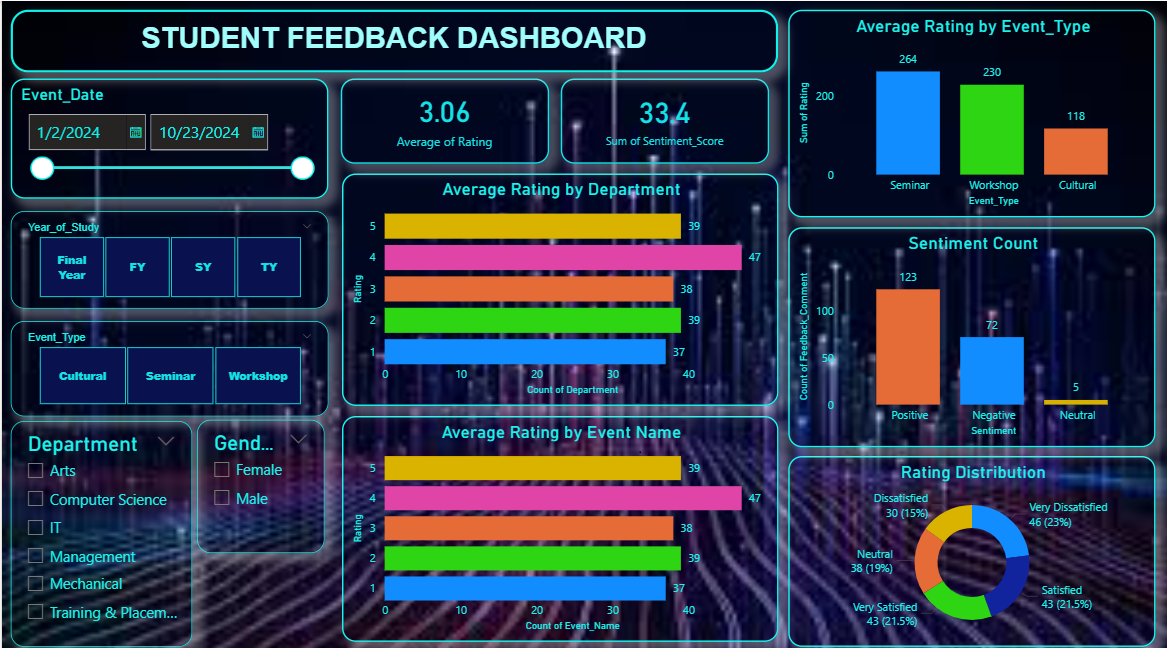

The page's visual inventory and layout, read from the dashboard file:
{"tool":"powerbi","page":{"name":"Page 1","canvas":[1280,720],"ordinal":0},"visuals":[{"type":"clusteredBarChart","title":"Average Rating by Event Name","fields":{"Y":["CountNonNull(college_event_feedback_cleaned.Event_Name)"],"Category":["college_event_feedback_cleaned.Rating"]},"box":[373.2,455.6,478.9,248.4],"z":0},{"type":"donutChart","title":"Rating Distribution","fields":{"Y":["CountNonNull(college_event_feedback_cleaned.Student_ID)"],"Category":["college_event_feedback_cleaned.Overall_Satisfaction"]},"box":[863.1,499.5,403.4,209.9],"z":1000},{"type":"columnChart","title":"Sentiment Count","fields":{"Category":["college_event_feedback_cleaned.Sentiment"],"Y":["CountNonNull(college_event_feedback_cleaned.Feedback_Comment)"]},"box":[863.1,248.4,403.4,241.5],"z":2000},{"type":"columnChart","title":"Average Rating by Event_Type","fields":{"Y":["Sum(college_event_feedback_cleaned.Rating)"],"Category":["college_event_feedback_cleaned.Event_Type"]},"box":[863.1,9.6,403.4,227.8],"z":3000},{"type":"barChart","title":"Average Rating by Department","fields":{"Y":["CountNonNull(college_event_feedback_cleaned.Department)"],"Category":["college_event_feedback_cleaned.Rating"]},"box":[371.9,188,478.9,255.2],"z":4000},{"type":"card","title":"Rating","fields":{"Values":["Avg(college_event_feedback_cleaned.Rating)"]},"box":[371.9,85.1,229.2,93.3],"z":5000},{"type":"slicer","title":"Event Type","fields":{"Values":["college_event_feedback_cleaned.Event_Type"]},"box":[9.6,351.3,348.5,104.5],"z":5000,"group":"g1"},{"type":"card","fields":{"Values":["Sum(college_event_feedback_cleaned.Sentiment_Score)"]},"box":[613.4,85.1,229.2,93.3],"z":6000},{"type":"slicer","fields":{"Values":["college_event_feedback_cleaned.Department"]},"box":[9.6,461.4,199,248.1],"z":6000,"group":"g1"},{"type":"textbox","box":[9.6,9.6,842.5,68.6],"z":7000},{"type":"slicer","title":"Year of Study","fields":{"Values":["college_event_feedback_cleaned.Year_of_Study"]},"box":[9.6,230,348.5,107.3],"z":7000,"group":"g1"},{"type":"slicer","title":"Event_Date","fields":{"Values":["college_event_feedback_cleaned.Event_Date"]},"box":[9.6,85.1,348.5,132.4],"z":8000,"group":"g1"},{"type":"group","id":"g1","title":"Group 1","box":[9.6,85.1,348.5,624.4],"z":8000},{"type":"slicer","fields":{"Values":["college_event_feedback_cleaned.Gender"]},"box":[214.6,459.9,140,146.3],"z":12001,"group":"g1"}]}

Visuals, with their boxes in screenshot pixels (x1, y1, x2, y2), scaled from the page's 1280x720 canvas onto the 1167x648 screenshot:
"Average Rating by Event Name" clusteredBarChart: locate(340, 410, 777, 634)
"Rating Distribution" donutChart: locate(787, 450, 1155, 638)
"Sentiment Count" columnChart: locate(787, 224, 1155, 441)
"Average Rating by Event_Type" columnChart: locate(787, 9, 1155, 214)
"Average Rating by Department" barChart: locate(339, 169, 776, 399)
"Rating" card: locate(339, 77, 548, 161)
"Event Type" slicer: locate(9, 316, 326, 410)
card - Sum(college_event_feedback_cleaned.Sentiment_Score): locate(559, 77, 768, 161)
slicer - college_event_feedback_cleaned.Department: locate(9, 415, 190, 639)
textbox: locate(9, 9, 777, 70)
"Year of Study" slicer: locate(9, 207, 326, 304)
"Event_Date" slicer: locate(9, 77, 326, 196)
"Group 1" group: locate(9, 77, 326, 639)
slicer - college_event_feedback_cleaned.Gender: locate(196, 414, 323, 546)
